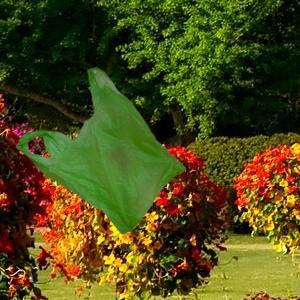plastic_bag: (14, 70, 190, 238)
